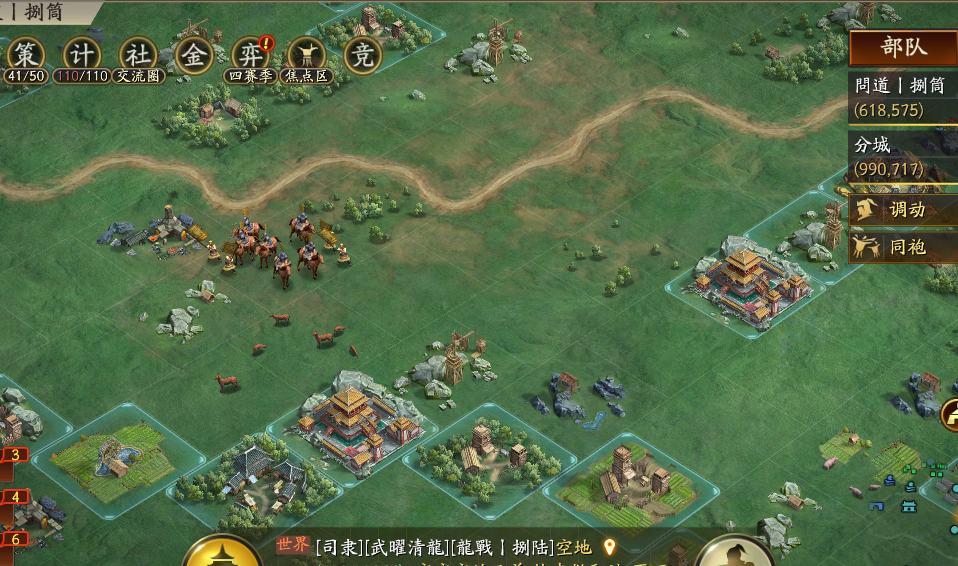lv05_wood_neutral: (134, 84, 297, 167)
